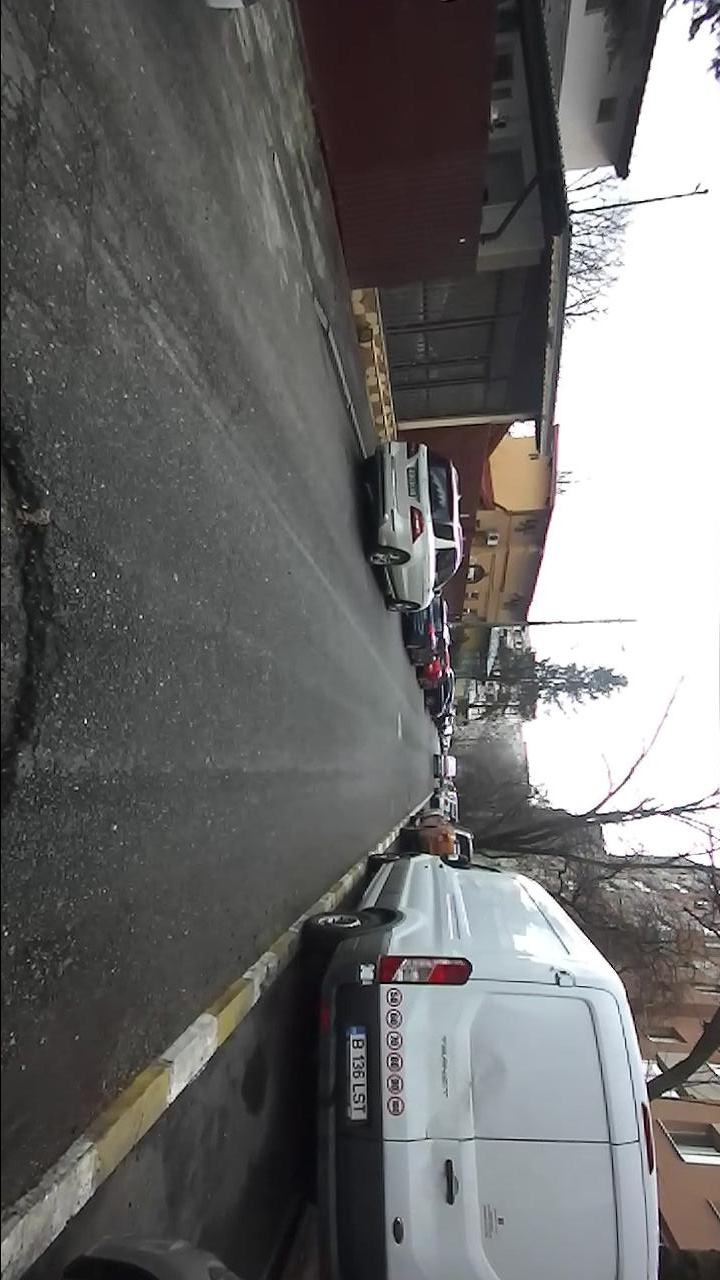pothole: (0, 386, 63, 850)
